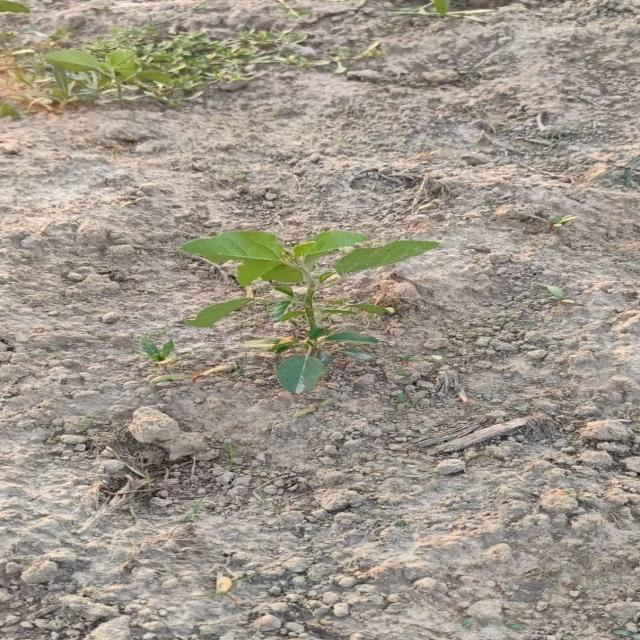weed: (180, 230, 438, 394)
